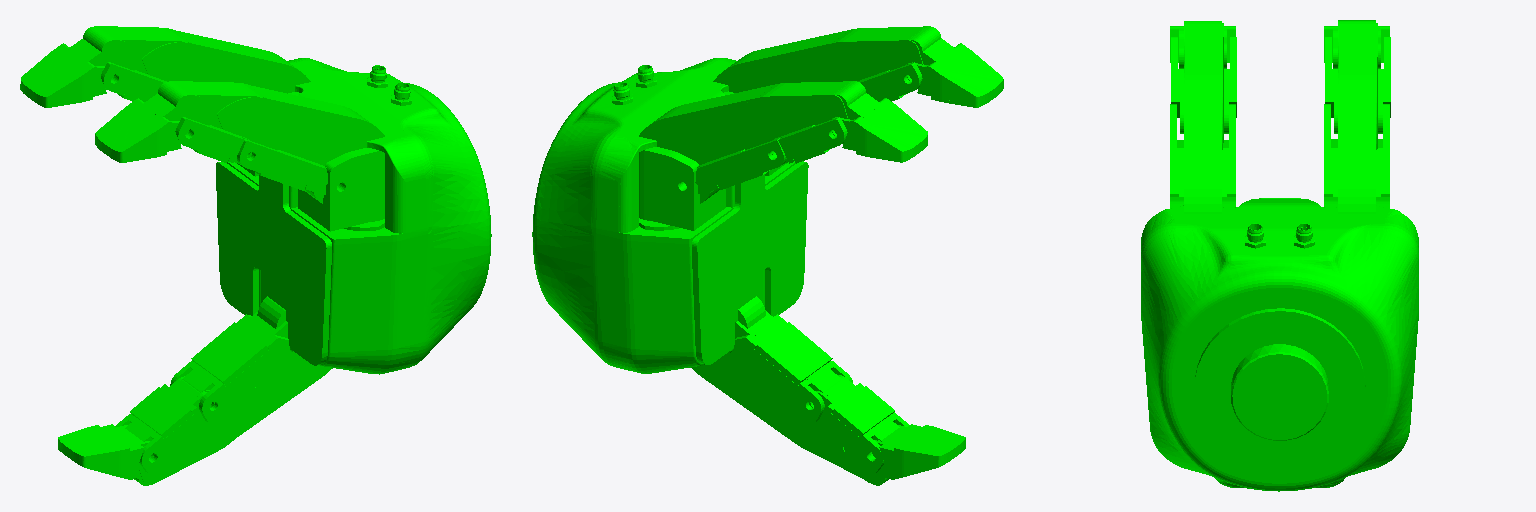
URDF robot description (robotiq_hand_left):
<?xml version="1.0" ?>
<!-- =================================================================================== -->
<!-- |    This document was autogenerated by xacro from xacro/robotiq_hand_left.urdf.xacro | -->
<!-- |    EDITING THIS FILE BY HAND IS NOT RECOMMENDED                                 | -->
<!-- =================================================================================== -->
<robot name="robotiq_hand_left" xmlns:controller="http://playerstage.sourceforge.net/gazebo/xmlschema/#controller" xmlns:interface="http://playerstage.sourceforge.net/gazebo/xmlschema/#interface" xmlns:sensor="http://playerstage.sourceforge.net/gazebo/xmlschema/#sensor" xmlns:xacro="http://ros.org/wiki/xacro">
  <link name="plane::xy::base">
    <inertial>
      <mass value="0.1"/>
      <origin rpy="0 0 0" xyz="0 0 0.0"/>
      <inertia ixx="0.01" ixy="0" ixz="0" iyy="0.01" iyz="0" izz="0.01"/>
    </inertial>
  </link>
  <joint name="left_robotiq_hand_joint" type="fixed">
    <origin rpy="0 1.57 1.57" xyz="0 0 0"/>
    <parent link="plane::xy::base"/>
    <child link="left_palm"/>
  </joint>
  <link name="left_finger_1_link_0">
    <visual>
      <origin rpy="0 0 0" xyz="0.020 0 0"/>
      <geometry>
        <mesh filename="package://robotiq_hand_description/meshes/s-model_articulated/visual/link_0.obj"/>
      </geometry>
      <material name="green">
        <color rgba="0 1 0 1"/>
      </material>
    </visual>
    <collision>
      <origin rpy="0 3.1416 -1.57" xyz="-0.0455 0.0414 0.036"/>
      <geometry>
        <mesh filename="package://robotiq_hand_description/meshes/s-model_articulated/collision/link_0_chull.obj"/>
      </geometry>
      <material name="yellow">
        <color rgba="0 1 1 1"/>
      </material>
    </collision>
  </link>
  <link name="left_finger_1_link_1">
    <visual>
      <origin rpy="0 0 -0.52" xyz="0.050 -.028 0"/>
      <geometry>
        <mesh filename="package://robotiq_hand_description/meshes/s-model_articulated/visual/link_1.obj"/>
      </geometry>
      <material name="green"/>
    </visual>
    <collision>
      <origin rpy="0 0 -0.52" xyz="0.050 -.028 0"/>
      <geometry>
        <mesh filename="package://robotiq_hand_description/meshes/s-model_articulated/collision/link_1_chull.obj"/>
      </geometry>
      <material name="yellow"/>
    </collision>
  </link>
  <link name="left_finger_1_link_2">
    <!--
			NOTE: This link has an offset in the z-direction based on the models that were
			used to generate grap-it poses.  With the offset below the model appears visually
			correct, but it is suspect.
			-->
    <visual>
      <origin rpy="0 0 0" xyz="0.039 0 0.0075"/>
      <geometry>
        <mesh filename="package://robotiq_hand_description/meshes/s-model_articulated/visual/link_2.obj"/>
      </geometry>
      <material name="green"/>
    </visual>
    <collision>
      <origin rpy="0 0 0" xyz="0.039 0 0.0075"/>
      <geometry>
        <mesh filename="package://robotiq_hand_description/meshes/s-model_articulated/collision/link_2_chull.obj"/>
      </geometry>
      <material name="yellow"/>
    </collision>
  </link>
  <link name="left_finger_1_link_3">
    <visual>
      <origin rpy="0 0 0.52" xyz="0 0 0"/>
      <geometry>
        <mesh filename="package://robotiq_hand_description/meshes/s-model_articulated/visual/link_3.obj"/>
      </geometry>
      <material name="green"/>
    </visual>
    <collision>
      <origin rpy="0 0 0.52" xyz="0 0 0"/>
      <geometry>
        <mesh filename="package://robotiq_hand_description/meshes/s-model_articulated/collision/link_3_chull.obj"/>
      </geometry>
      <material name="yellow"/>
    </collision>
  </link>
  <joint name="left_finger_1_joint_1" type="revolute">
    <parent link="left_finger_1_link_0"/>
    <child link="left_finger_1_link_1"/>
    <axis xyz="0 0 1"/>
    <origin rpy="0 0 0" xyz="0.020 0 0"/>
    <limit effort="100" lower="0" upper="3.1416" velocity="100"/>
  </joint>
  <joint name="left_finger_1_joint_2" type="revolute">
    <parent link="left_finger_1_link_1"/>
    <child link="left_finger_1_link_2"/>
    <axis xyz="0 0 1"/>
    <origin rpy="0 0 -0.52" xyz="0.050 -.028 0"/>
    <limit effort="100" lower="0" upper="3.1416" velocity="100"/>
  </joint>
  <joint name="left_finger_1_joint_3" type="revolute">
    <parent link="left_finger_1_link_2"/>
    <child link="left_finger_1_link_3"/>
    <axis xyz="0 0 1"/>
    <origin rpy="0 0 0" xyz="0.039 0 0"/>
    <limit effort="100" lower="0" upper="3.1416" velocity="100"/>
  </joint>
  <link name="left_finger_2_link_0">
    <visual>
      <origin rpy="0 0 0" xyz="0.020 0 0"/>
      <geometry>
        <mesh filename="package://robotiq_hand_description/meshes/s-model_articulated/visual/link_0.obj"/>
      </geometry>
      <material name="green">
        <color rgba="0 1 0 1"/>
      </material>
    </visual>
    <collision>
      <origin rpy="0 3.1416 -1.57" xyz="-0.0455 0.0414 0.036"/>
      <geometry>
        <mesh filename="package://robotiq_hand_description/meshes/s-model_articulated/collision/link_0_chull.obj"/>
      </geometry>
      <material name="yellow">
        <color rgba="0 1 1 1"/>
      </material>
    </collision>
  </link>
  <link name="left_finger_2_link_1">
    <visual>
      <origin rpy="0 0 -0.52" xyz="0.050 -.028 0"/>
      <geometry>
        <mesh filename="package://robotiq_hand_description/meshes/s-model_articulated/visual/link_1.obj"/>
      </geometry>
      <material name="green"/>
    </visual>
    <collision>
      <origin rpy="0 0 -0.52" xyz="0.050 -.028 0"/>
      <geometry>
        <mesh filename="package://robotiq_hand_description/meshes/s-model_articulated/collision/link_1_chull.obj"/>
      </geometry>
      <material name="yellow"/>
    </collision>
  </link>
  <link name="left_finger_2_link_2">
    <!--
			NOTE: This link has an offset in the z-direction based on the models that were
			used to generate grap-it poses.  With the offset below the model appears visually
			correct, but it is suspect.
			-->
    <visual>
      <origin rpy="0 0 0" xyz="0.039 0 0.0075"/>
      <geometry>
        <mesh filename="package://robotiq_hand_description/meshes/s-model_articulated/visual/link_2.obj"/>
      </geometry>
      <material name="green"/>
    </visual>
    <collision>
      <origin rpy="0 0 0" xyz="0.039 0 0.0075"/>
      <geometry>
        <mesh filename="package://robotiq_hand_description/meshes/s-model_articulated/collision/link_2_chull.obj"/>
      </geometry>
      <material name="yellow"/>
    </collision>
  </link>
  <link name="left_finger_2_link_3">
    <visual>
      <origin rpy="0 0 0.52" xyz="0 0 0"/>
      <geometry>
        <mesh filename="package://robotiq_hand_description/meshes/s-model_articulated/visual/link_3.obj"/>
      </geometry>
      <material name="green"/>
    </visual>
    <collision>
      <origin rpy="0 0 0.52" xyz="0 0 0"/>
      <geometry>
        <mesh filename="package://robotiq_hand_description/meshes/s-model_articulated/collision/link_3_chull.obj"/>
      </geometry>
      <material name="yellow"/>
    </collision>
  </link>
  <joint name="left_finger_2_joint_1" type="revolute">
    <parent link="left_finger_2_link_0"/>
    <child link="left_finger_2_link_1"/>
    <axis xyz="0 0 1"/>
    <origin rpy="0 0 0" xyz="0.020 0 0"/>
    <limit effort="100" lower="0" upper="3.1416" velocity="100"/>
  </joint>
  <joint name="left_finger_2_joint_2" type="revolute">
    <parent link="left_finger_2_link_1"/>
    <child link="left_finger_2_link_2"/>
    <axis xyz="0 0 1"/>
    <origin rpy="0 0 -0.52" xyz="0.050 -.028 0"/>
    <limit effort="100" lower="0" upper="3.1416" velocity="100"/>
  </joint>
  <joint name="left_finger_2_joint_3" type="revolute">
    <parent link="left_finger_2_link_2"/>
    <child link="left_finger_2_link_3"/>
    <axis xyz="0 0 1"/>
    <origin rpy="0 0 0" xyz="0.039 0 0"/>
    <limit effort="100" lower="0" upper="3.1416" velocity="100"/>
  </joint>
  <link name="left_finger_middle_link_0">
    <visual>
      <origin rpy="0 0 0" xyz="0.020 0 0"/>
      <geometry>
        <mesh filename="package://robotiq_hand_description/meshes/s-model_articulated/visual/link_0.obj"/>
      </geometry>
      <material name="green">
        <color rgba="0 1 0 1"/>
      </material>
    </visual>
    <collision>
      <origin rpy="0 3.1416 -1.57" xyz="-0.0455 0.0414 0.036"/>
      <geometry>
        <mesh filename="package://robotiq_hand_description/meshes/s-model_articulated/collision/link_0_chull.obj"/>
      </geometry>
      <material name="yellow">
        <color rgba="0 1 1 1"/>
      </material>
    </collision>
  </link>
  <link name="left_finger_middle_link_1">
    <visual>
      <origin rpy="0 0 -0.52" xyz="0.050 -.028 0"/>
      <geometry>
        <mesh filename="package://robotiq_hand_description/meshes/s-model_articulated/visual/link_1.obj"/>
      </geometry>
      <material name="green"/>
    </visual>
    <collision>
      <origin rpy="0 0 -0.52" xyz="0.050 -.028 0"/>
      <geometry>
        <mesh filename="package://robotiq_hand_description/meshes/s-model_articulated/collision/link_1_chull.obj"/>
      </geometry>
      <material name="yellow"/>
    </collision>
  </link>
  <link name="left_finger_middle_link_2">
    <!--
			NOTE: This link has an offset in the z-direction based on the models that were
			used to generate grap-it poses.  With the offset below the model appears visually
			correct, but it is suspect.
			-->
    <visual>
      <origin rpy="0 0 0" xyz="0.039 0 0.0075"/>
      <geometry>
        <mesh filename="package://robotiq_hand_description/meshes/s-model_articulated/visual/link_2.obj"/>
      </geometry>
      <material name="green"/>
    </visual>
    <collision>
      <origin rpy="0 0 0" xyz="0.039 0 0.0075"/>
      <geometry>
        <mesh filename="package://robotiq_hand_description/meshes/s-model_articulated/collision/link_2_chull.obj"/>
      </geometry>
      <material name="yellow"/>
    </collision>
  </link>
  <link name="left_finger_middle_link_3">
    <visual>
      <origin rpy="0 0 0.52" xyz="0 0 0"/>
      <geometry>
        <mesh filename="package://robotiq_hand_description/meshes/s-model_articulated/visual/link_3.obj"/>
      </geometry>
      <material name="green"/>
    </visual>
    <collision>
      <origin rpy="0 0 0.52" xyz="0 0 0"/>
      <geometry>
        <mesh filename="package://robotiq_hand_description/meshes/s-model_articulated/collision/link_3_chull.obj"/>
      </geometry>
      <material name="yellow"/>
    </collision>
  </link>
  <joint name="left_finger_middle_joint_1" type="revolute">
    <parent link="left_finger_middle_link_0"/>
    <child link="left_finger_middle_link_1"/>
    <axis xyz="0 0 1"/>
    <origin rpy="0 0 0" xyz="0.020 0 0"/>
    <limit effort="100" lower="0" upper="3.1416" velocity="100"/>
  </joint>
  <joint name="left_finger_middle_joint_2" type="revolute">
    <parent link="left_finger_middle_link_1"/>
    <child link="left_finger_middle_link_2"/>
    <axis xyz="0 0 1"/>
    <origin rpy="0 0 -0.52" xyz="0.050 -.028 0"/>
    <limit effort="100" lower="0" upper="3.1416" velocity="100"/>
  </joint>
  <joint name="left_finger_middle_joint_3" type="revolute">
    <parent link="left_finger_middle_link_2"/>
    <child link="left_finger_middle_link_3"/>
    <axis xyz="0 0 1"/>
    <origin rpy="0 0 0" xyz="0.039 0 0"/>
    <limit effort="100" lower="0" upper="3.1416" velocity="100"/>
  </joint>
  <link name="left_palm">
    <visual>
      <geometry>
        <mesh filename="package://robotiq_hand_description/meshes/s-model_articulated/visual/palm.obj"/>
      </geometry>
      <material name="green">
        <color rgba="0 1 0 1"/>
      </material>
    </visual>
    <collision>
      <geometry>
        <mesh filename="package://robotiq_hand_description/meshes/s-model_articulated/collision/palm_chull.obj"/>
      </geometry>
      <material name="yellow">
        <color rgba="0 1 1 1"/>
      </material>
    </collision>
  </link>
  <joint name="left_palm_finger_1_joint" type="revolute">
    <parent link="left_palm"/>
    <child link="left_finger_1_link_0"/>
    <axis xyz="0 1 0"/>
    <origin rpy="0 3.1416 -1.57" xyz="-0.0455 0.0214 0.036"/>
    <limit effort="100" lower="-0.16" upper="0.25" velocity="100"/>
  </joint>
  <joint name="left_palm_finger_2_joint" type="revolute">
    <parent link="left_palm"/>
    <child link="left_finger_2_link_0"/>
    <axis xyz="0 1 0"/>
    <origin rpy="0 3.1416 -1.57" xyz="-0.0455 0.0214 -0.036"/>
    <limit effort="100" lower="-0.25" upper="0.16" velocity="100"/>
  </joint>
  <joint name="left_palm_finger_middle_joint" type="fixed">
    <parent link="left_palm"/>
    <child link="left_finger_middle_link_0"/>
    <axis xyz="0 0 1"/>
    <origin rpy="0 0 1.57" xyz="0.0455 0.0214 0"/>
  </joint>
</robot>

--- Render facts (derived) ---
The picture shows the robot from 3 angles, left to right: view 1: azimuth 30°, elevation 25°; view 2: azimuth 150°, elevation 25°; view 3: azimuth 270°, elevation 25°; orthographic projection.
Robot: robotiq_hand_left — 14 links, 13 joints (11 revolute, 2 fixed); root link plane::xy::base; default pose: every joint at zero.
Links seen in each view (by area): view 1: left_palm, left_finger_2_link_1, left_finger_middle_link_1, left_finger_middle_link_2, left_finger_1_link_1, left_finger_2_link_3, left_finger_1_link_3, left_finger_2_link_0, left_finger_middle_link_3, left_finger_2_link_2, left_finger_1_link_2, left_finger_middle_link_0; view 2: left_palm, left_finger_middle_link_1, left_finger_1_link_1, left_finger_1_link_2, left_finger_2_link_2, left_finger_middle_link_2, left_finger_1_link_0, left_finger_2_link_3, left_finger_1_link_3, left_finger_middle_link_3, left_finger_2_link_1, left_finger_middle_link_0; view 3: left_palm, left_finger_1_link_1, left_finger_2_link_1, left_finger_1_link_2, left_finger_2_link_2, left_finger_1_link_3, left_finger_2_link_3.
Link boxes in pixels (box(x1,y1,x2,y2)): left_palm: box(216, 58, 491, 374); left_finger_2_link_1: box(217, 85, 384, 203); left_finger_middle_link_1: box(170, 296, 332, 436); left_finger_middle_link_2: box(115, 376, 256, 484); left_finger_1_link_1: box(142, 30, 310, 93); left_finger_2_link_3: box(95, 81, 215, 162); left_finger_1_link_3: box(20, 26, 140, 107); left_finger_2_link_0: box(298, 148, 384, 231); left_finger_middle_link_3: box(58, 424, 153, 485); left_finger_2_link_2: box(169, 81, 265, 163); left_finger_1_link_2: box(94, 26, 190, 101); left_finger_middle_link_0: box(261, 271, 297, 354); left_palm: box(532, 58, 808, 373); left_finger_middle_link_1: box(691, 296, 852, 454); left_finger_1_link_1: box(639, 84, 786, 203); left_finger_1_link_2: box(730, 81, 850, 163); left_finger_2_link_2: box(805, 27, 924, 101); left_finger_middle_link_2: box(809, 375, 908, 478); left_finger_1_link_0: box(639, 147, 725, 230); left_finger_2_link_3: box(906, 26, 1003, 107); left_finger_1_link_3: box(831, 81, 927, 162); left_finger_middle_link_3: box(846, 424, 965, 485); left_finger_2_link_1: box(713, 29, 851, 92); left_finger_middle_link_0: box(727, 271, 762, 353); left_palm: box(1141, 198, 1418, 491); left_finger_1_link_1: box(1324, 63, 1389, 213); left_finger_2_link_1: box(1170, 64, 1235, 213); left_finger_1_link_2: box(1325, 23, 1390, 149); left_finger_2_link_2: box(1171, 23, 1236, 149); left_finger_1_link_3: box(1324, 20, 1389, 68); left_finger_2_link_3: box(1170, 21, 1235, 68).
Bounding box of the posed robot: 0.2173 × 0.1302 × 0.2214 m (x, y, z).
13 mesh visuals loaded from 5 distinct referenced files (5 OBJ).